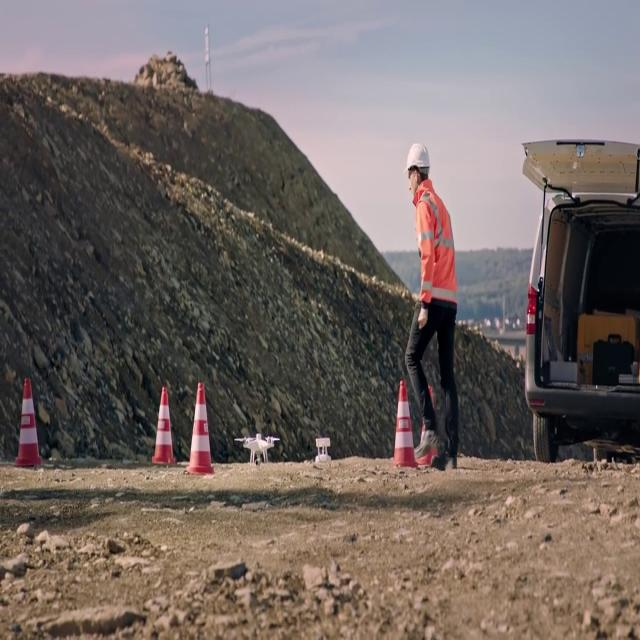drone: (237, 430, 281, 470)
